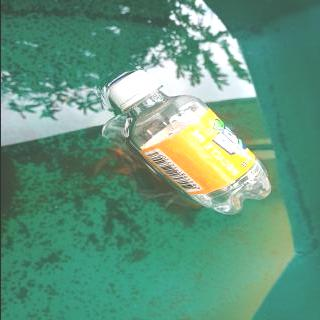bottle: (104, 68, 271, 216)
